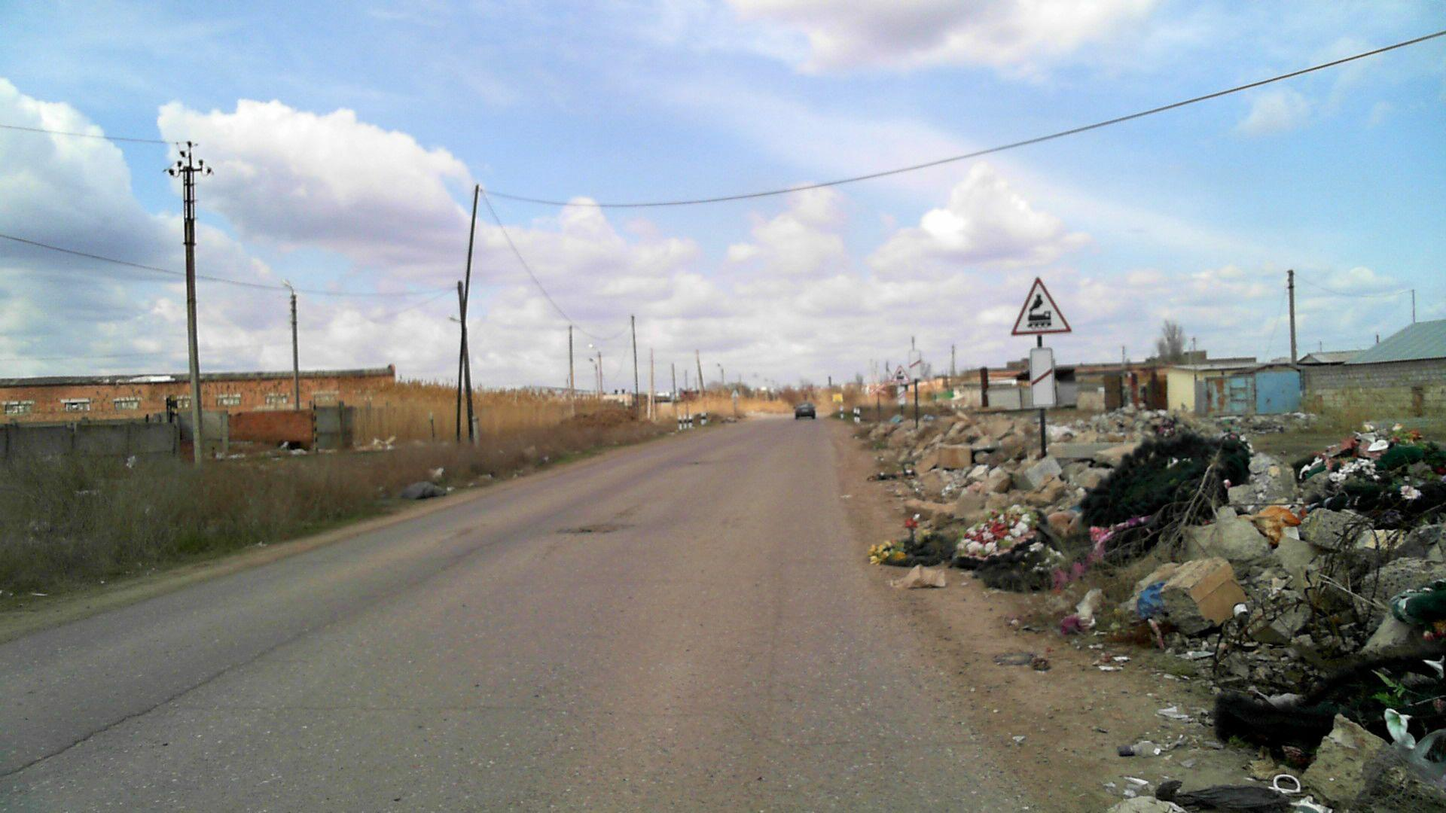road_sign: (1008, 271, 1077, 338)
